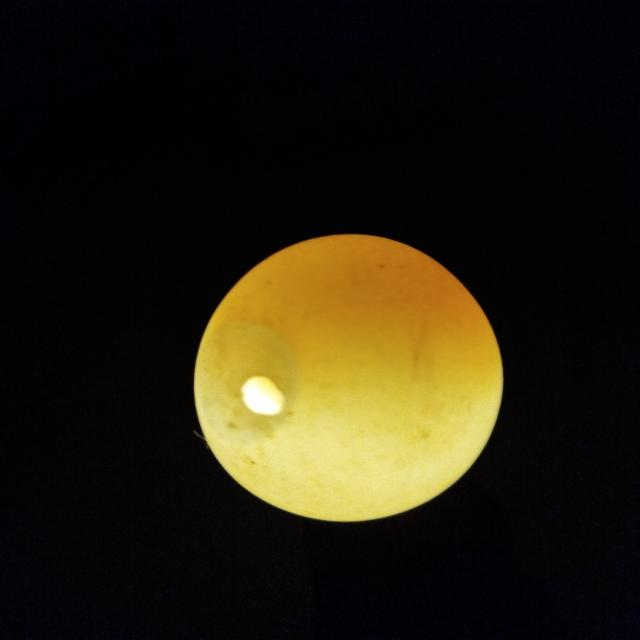Camara de Ar: (194, 322, 301, 447)
